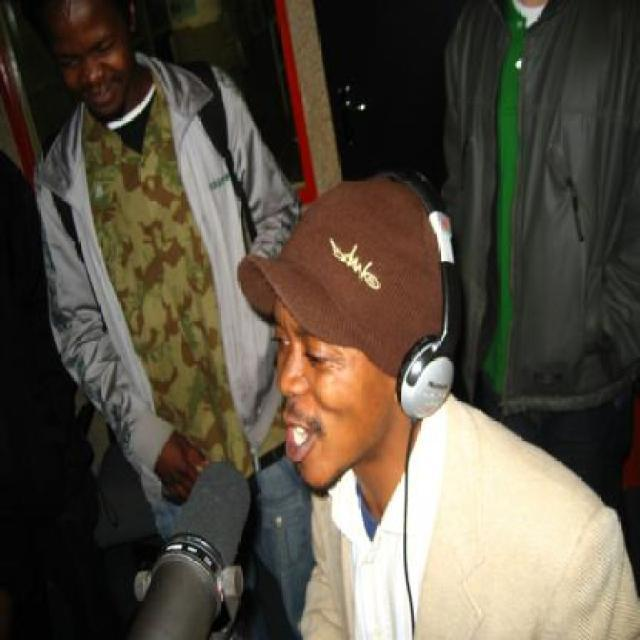earphone: (348, 148, 534, 432)
